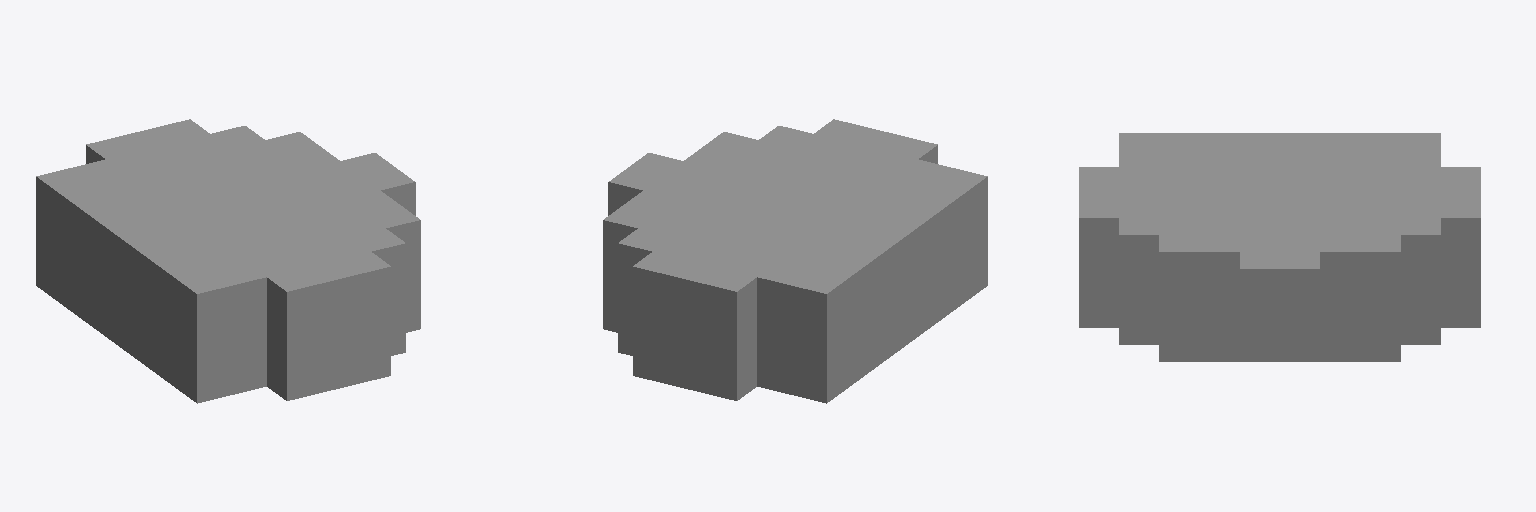
File: potato_belt.obj
3 views of the same model, side by side, from view 1: azimuth 30°, elevation 25°; view 2: azimuth 150°, elevation 25°; view 3: azimuth 270°, elevation 25° (orthographic).
Visible parts, largest first — view 1: potato_belt; view 2: potato_belt; view 3: potato_belt.
Boxes of the visible parts, x1=… form: potato_belt: x1=36, y1=119, x2=420, y2=403; potato_belt: x1=603, y1=119, x2=987, y2=403; potato_belt: x1=1079, y1=133, x2=1480, y2=361.
Bounding box in the file's own units: 8 × 3 × 10.